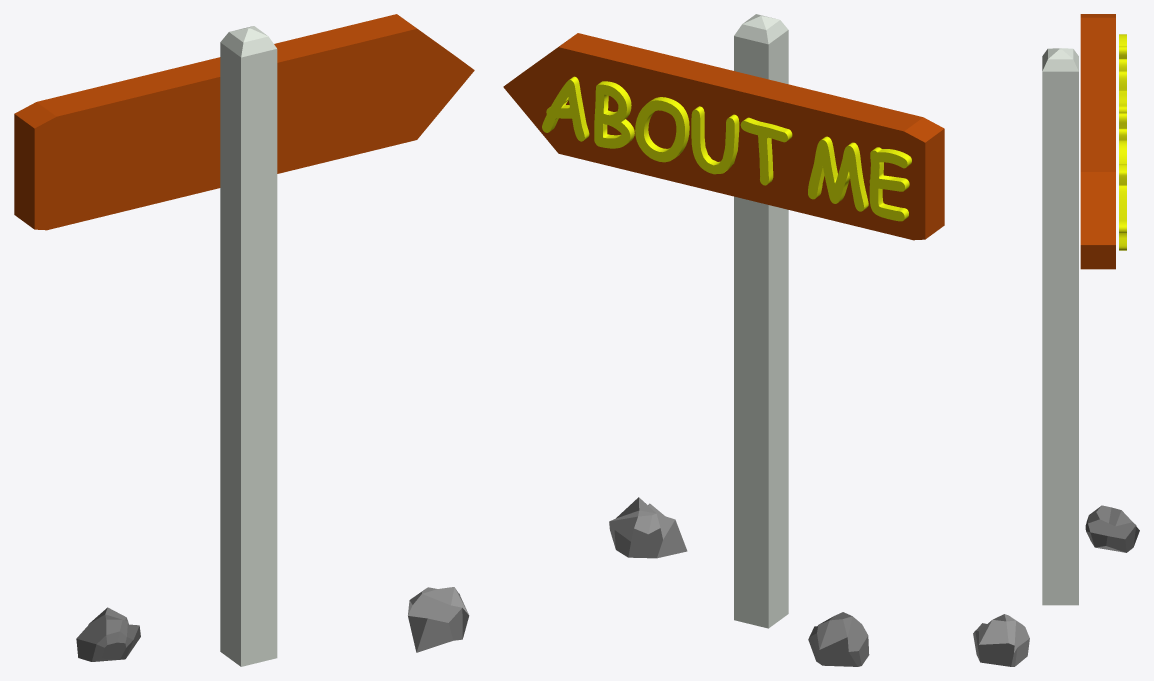
Rendered from sign-about.glb.
The picture shows the model from 3 angles, left to right: view 1: azimuth 30°, elevation 25°; view 2: azimuth 150°, elevation 25°; view 3: azimuth 270°, elevation 25°; orthographic projection. The views are drawn at different scales.
Visible parts, largest first — view 1: Cube.001, Cube, Cube.002, Cube.004; view 2: Cube.001, Cube, PROJECT, Cube.002, Cube.004; view 3: Cube, Cube.001, Cube.002, Cube.004, PROJECT.
Part boxes in pixels (box(x1,y1,x2,y2)): Cube.001: box(14, 14, 474, 230); Cube: box(220, 26, 277, 666); Cube.002: box(408, 587, 469, 652); Cube.004: box(76, 607, 140, 661); Cube.001: box(503, 33, 944, 240); Cube: box(734, 14, 788, 628); PROJECT: box(542, 76, 911, 221); Cube.002: box(609, 497, 687, 558); Cube.004: box(808, 612, 869, 666); Cube: box(1042, 48, 1078, 605); Cube.001: box(1080, 14, 1115, 269); Cube.002: box(973, 614, 1029, 666); Cube.004: box(1085, 505, 1139, 552); PROJECT: box(1119, 34, 1126, 250).
Size of the model in its own units: 7.08 by 9.64 by 2.66.
